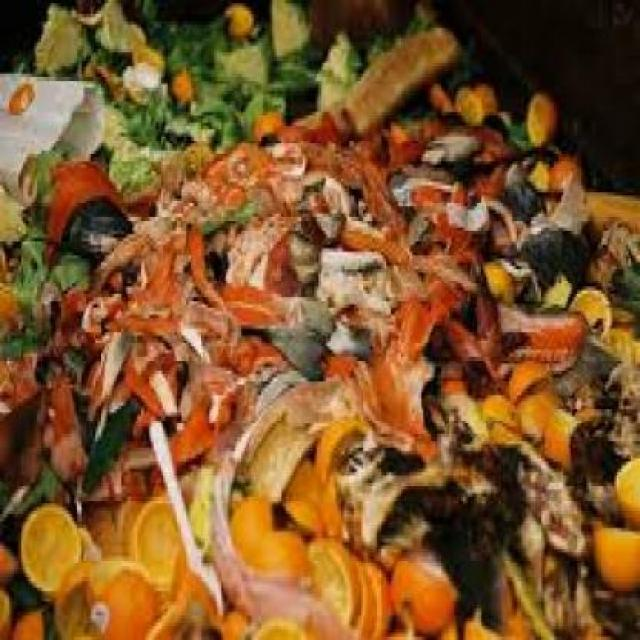garbage: (3, 0, 634, 629)
